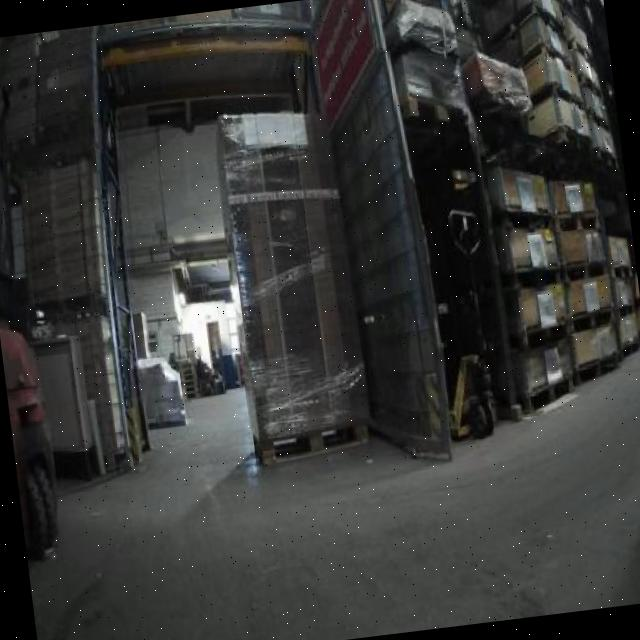pallet: (239, 408, 383, 474), (517, 360, 579, 418), (555, 299, 626, 343), (562, 344, 624, 391), (508, 252, 566, 298), (540, 204, 610, 241), (558, 251, 614, 291), (496, 204, 556, 236)
